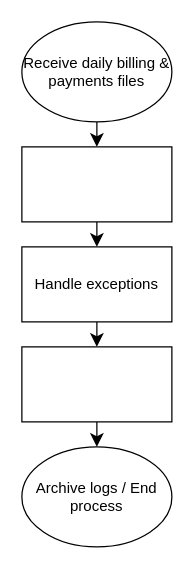
The diagram is 194 pixels wide and 569 high, and some of its shapes have lost their labels. Here are the shapes that lost their labels. From the top down, the centre of each, then its label:
At (96,184): "Auto-match payments".
At (96,384): "Reporting & metrics".
